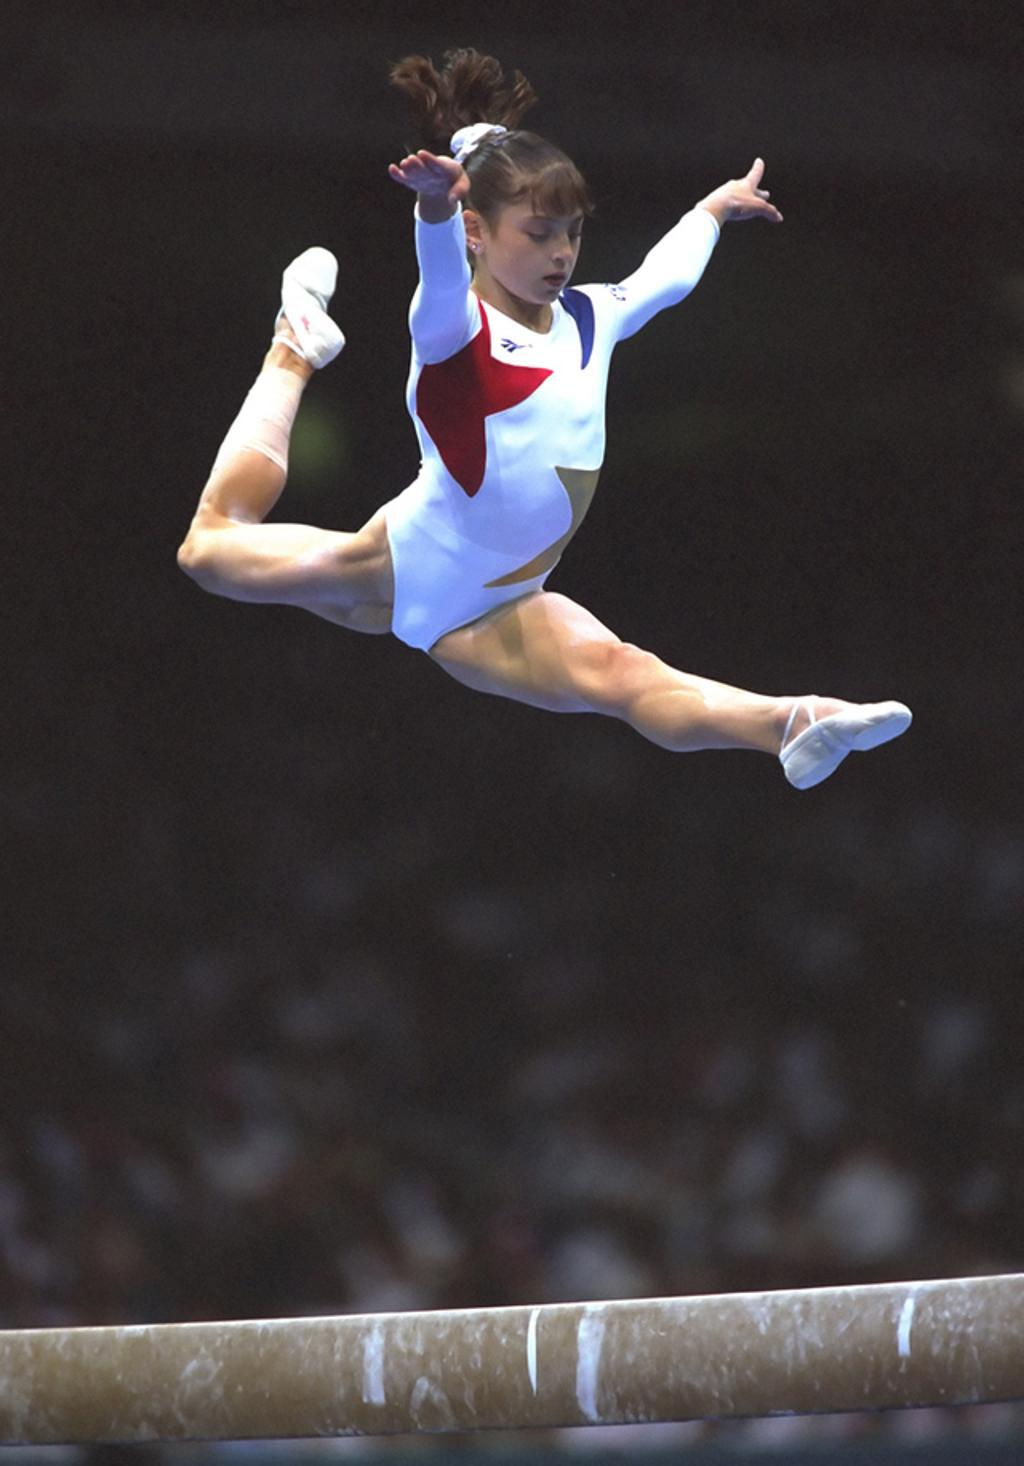face: (496, 164, 588, 307)
